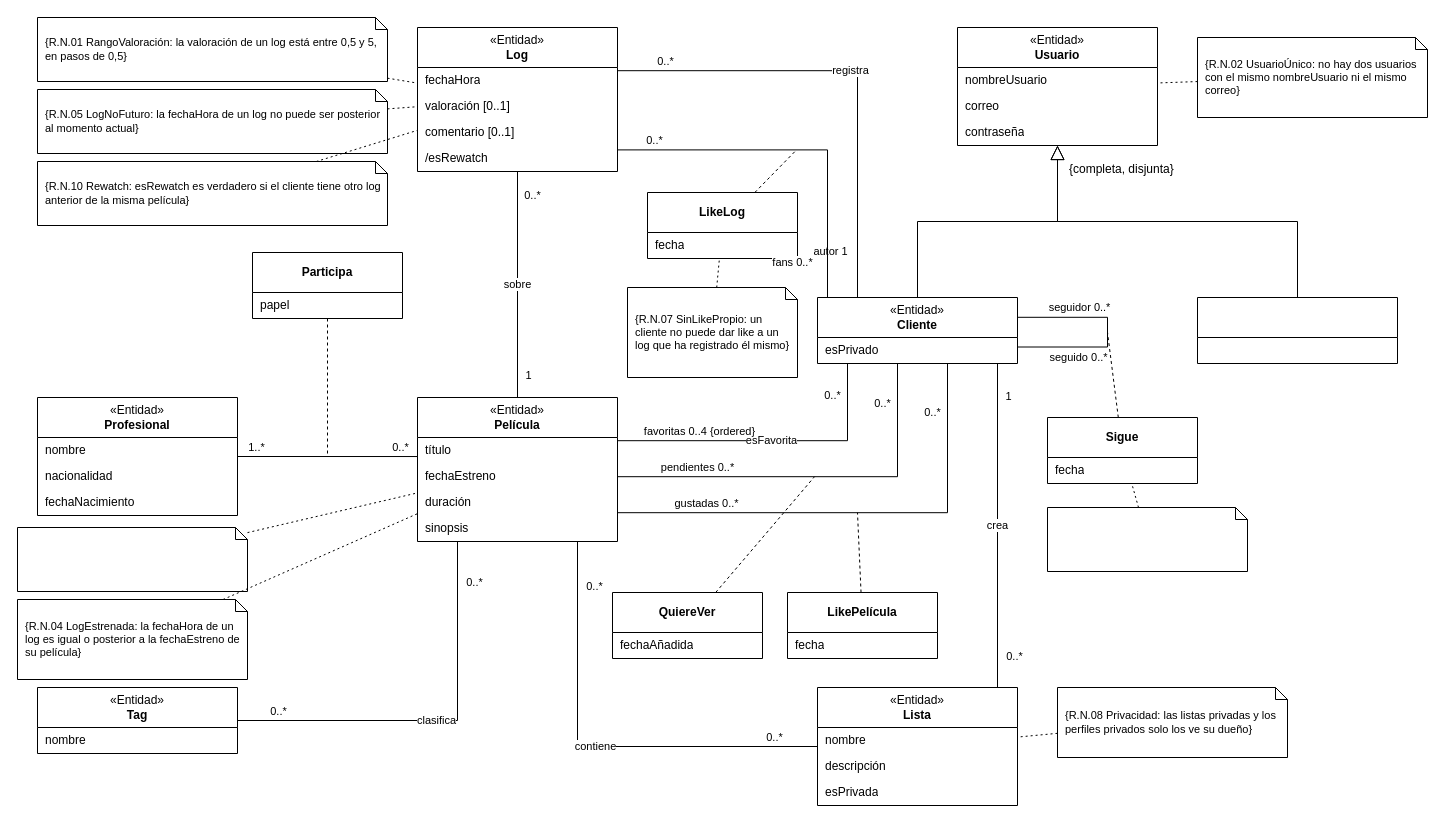
This 1445x823 diagram has some shape labels left out. Here are the shapes that lost their labels. From the top down, the centre of each, then its label:
At (x=1297, y=330): "«Entidad» Administrador".
At (x=132, y=559): "{R.N.09 DuraciónPositiva: la duración de una película es mayor que 0}".
At (x=1147, y=539): "{R.N.11 NoSeguirseASiMismo: un cliente no puede seguirse a sí mismo}".
